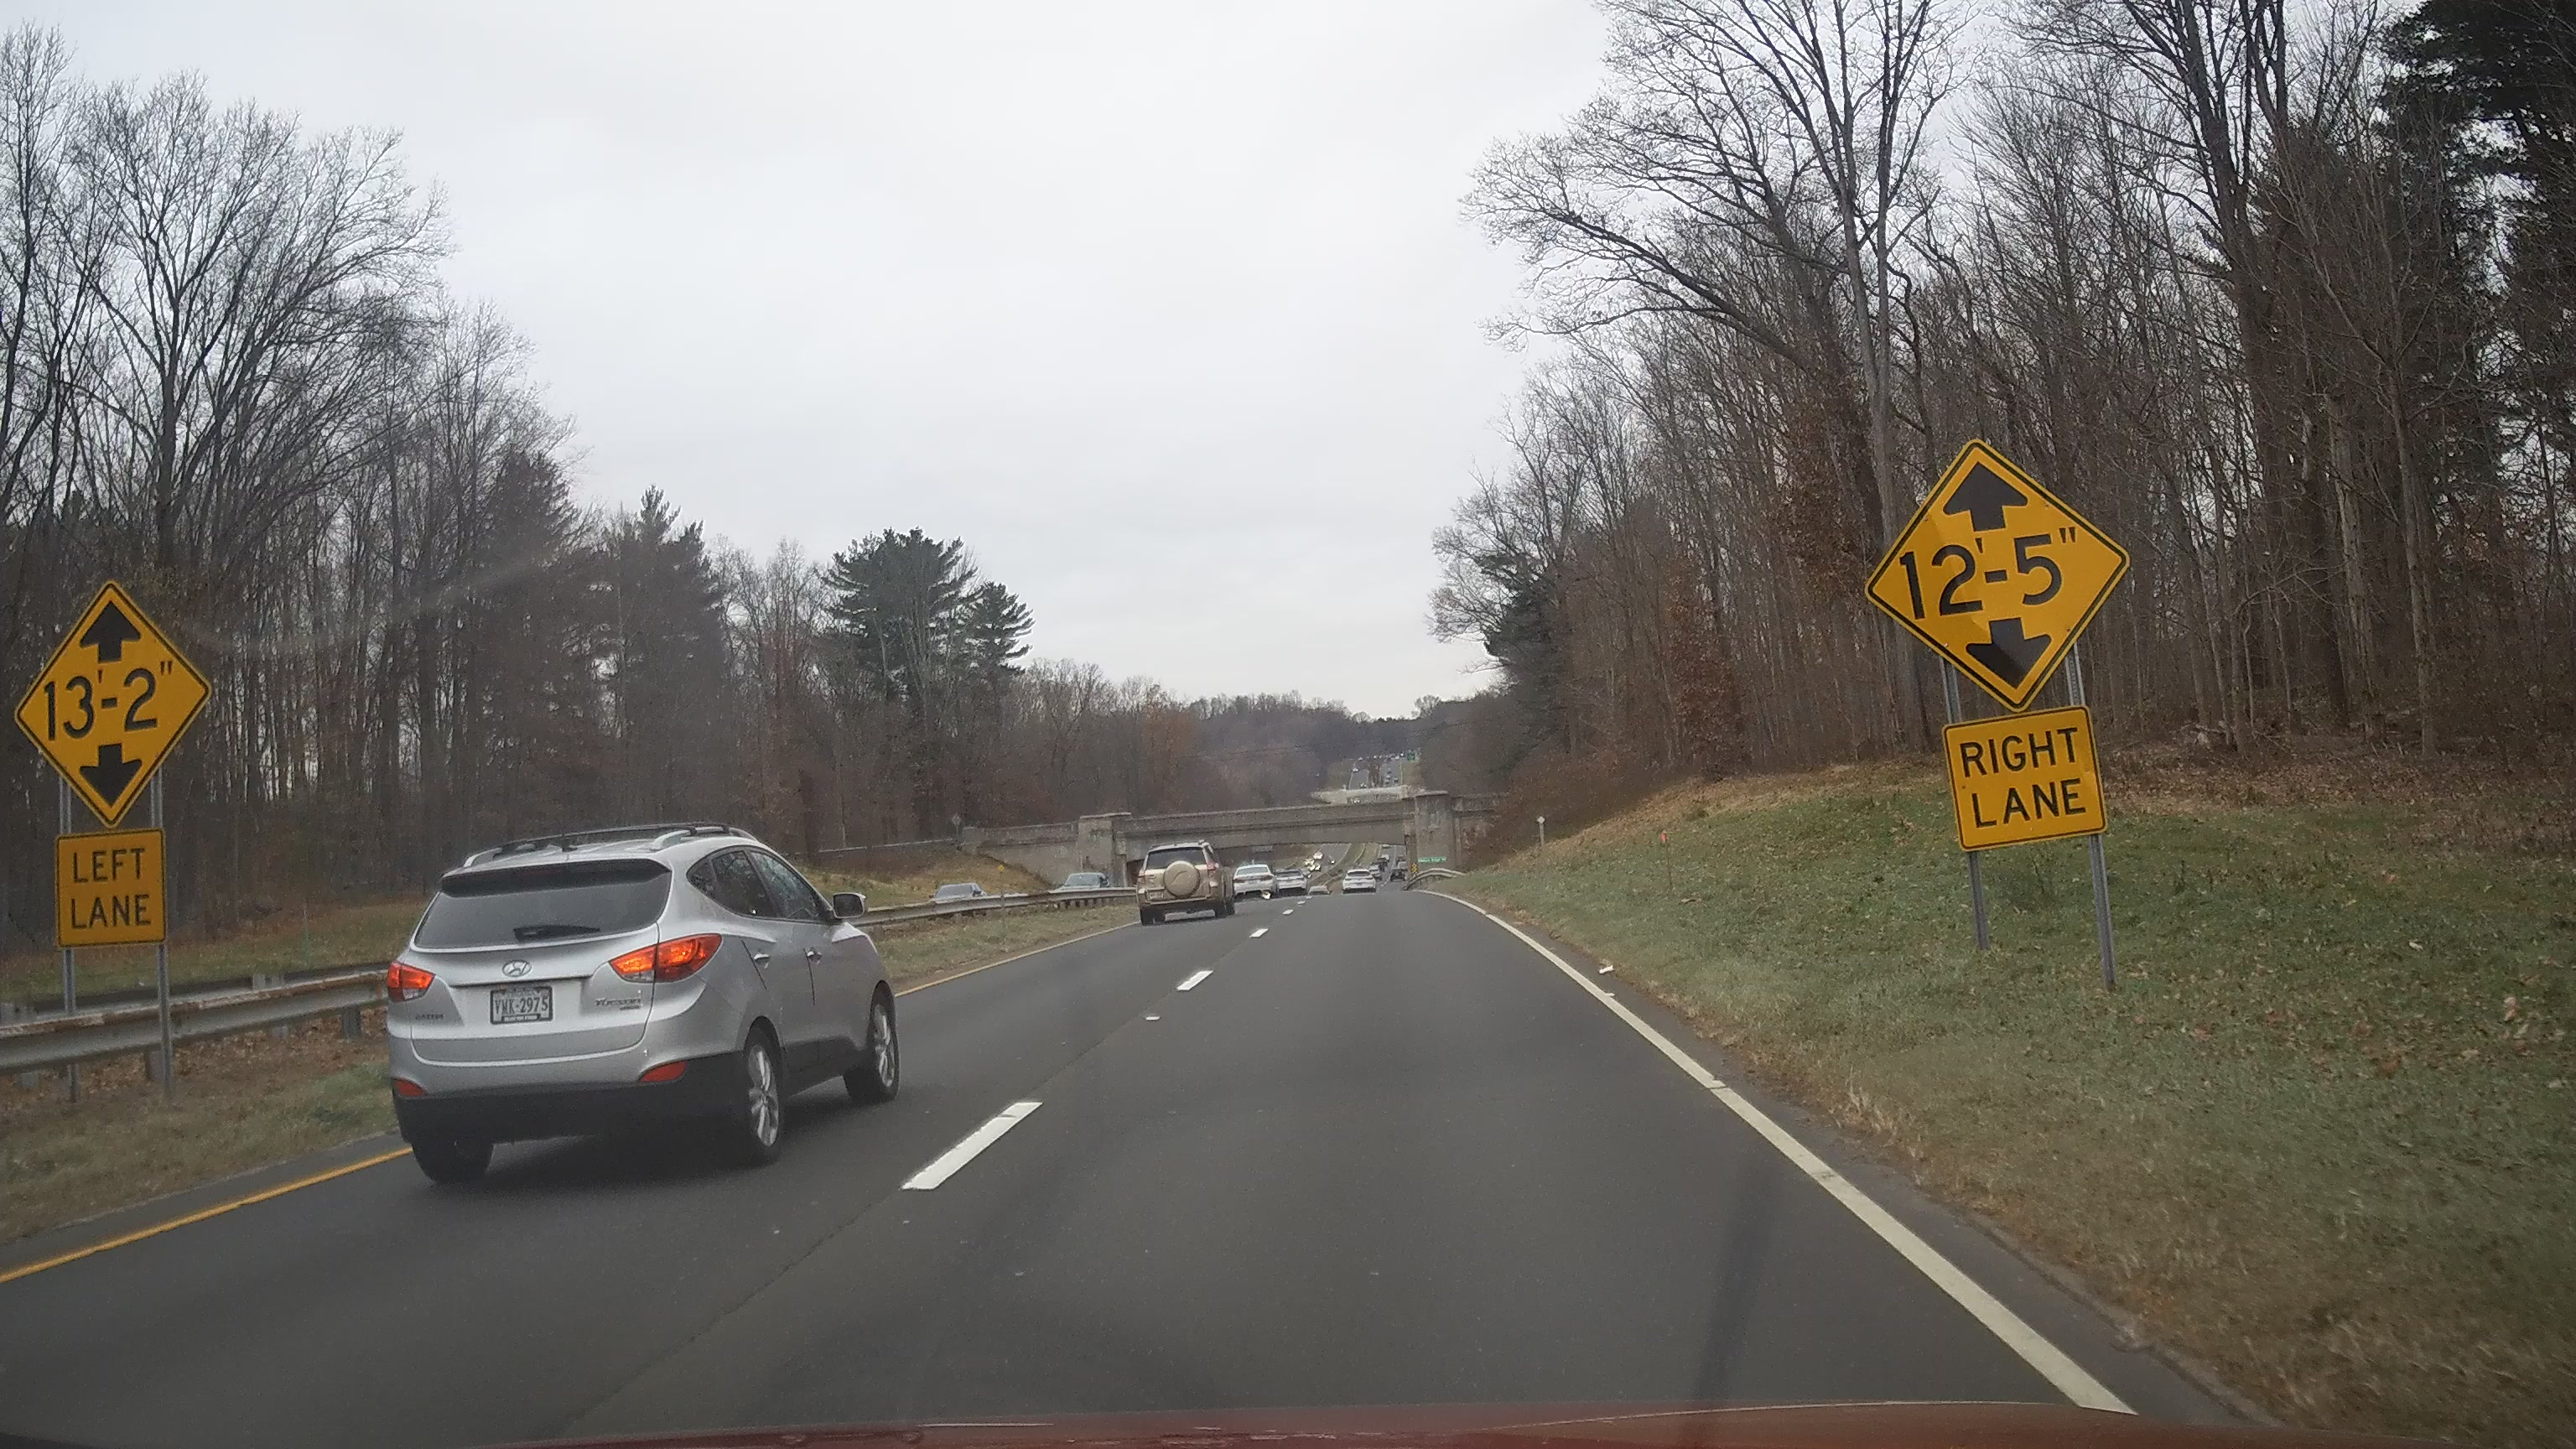low-clearance-sign: (1865, 437, 2130, 715), (12, 579, 214, 830)
